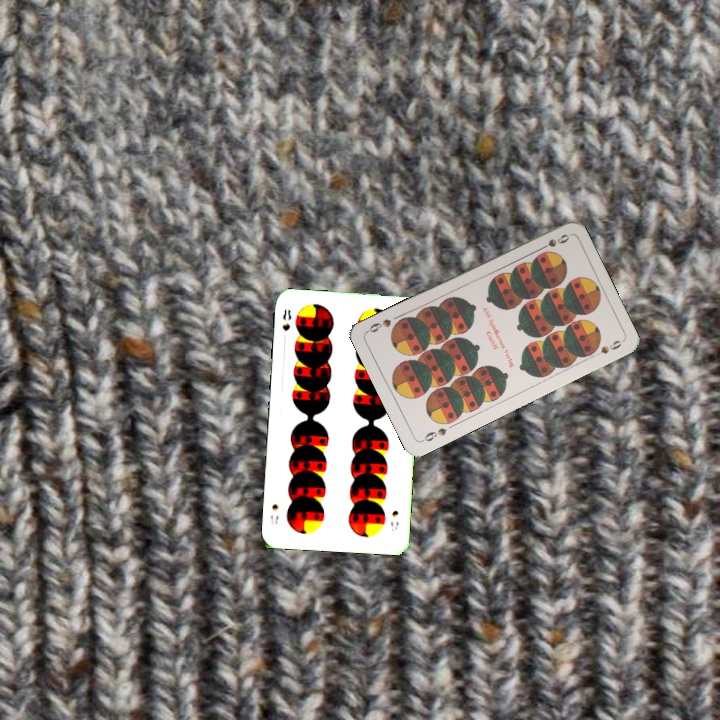S8: (278, 305, 294, 333), (387, 506, 401, 533)
S9: (533, 230, 572, 254), (417, 424, 449, 445)
